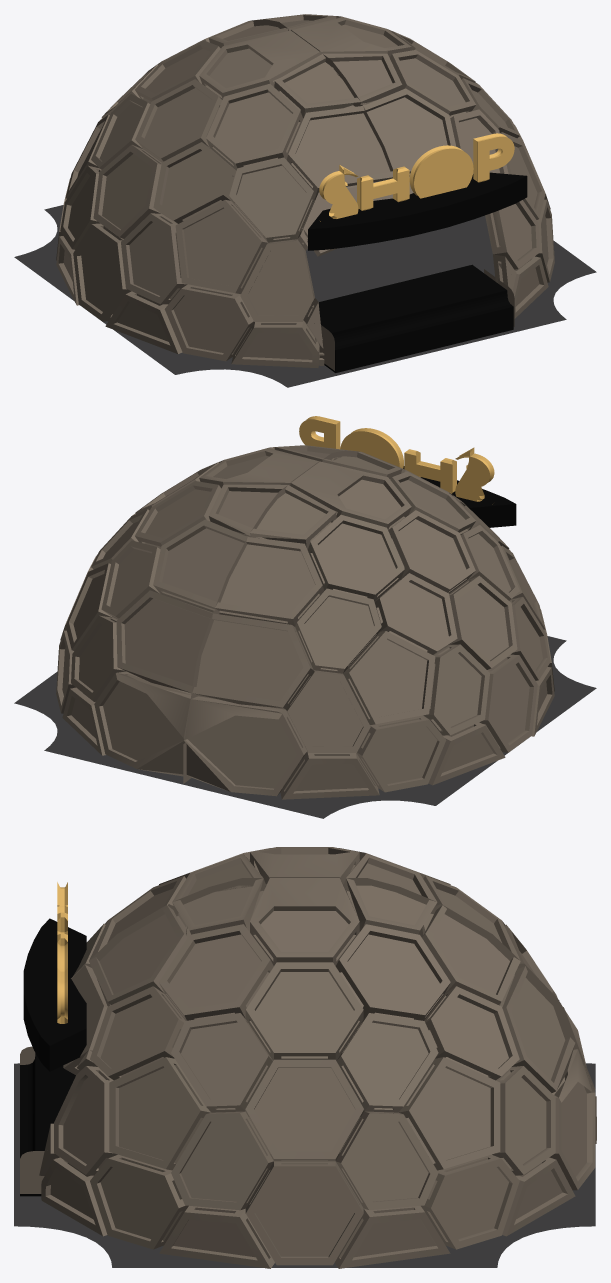
Rendered from Shop.fbx.
3 views of the same model, one above another, from view 1: azimuth 30°, elevation 25°; view 2: azimuth 150°, elevation 25°; view 3: azimuth 270°, elevation 25° (orthographic). The views are drawn at different scales.
Parts seen in each view (by area): view 1: Plane; view 2: Plane; view 3: Plane.
Boxes of the visible parts, left/top/right/bottom form: Plane: left=14, top=14, right=596, bottom=387; Plane: left=14, top=416, right=596, bottom=818; Plane: left=14, top=847, right=596, bottom=1268.
Bounding box in the file's own units: 204 × 102 × 200.
